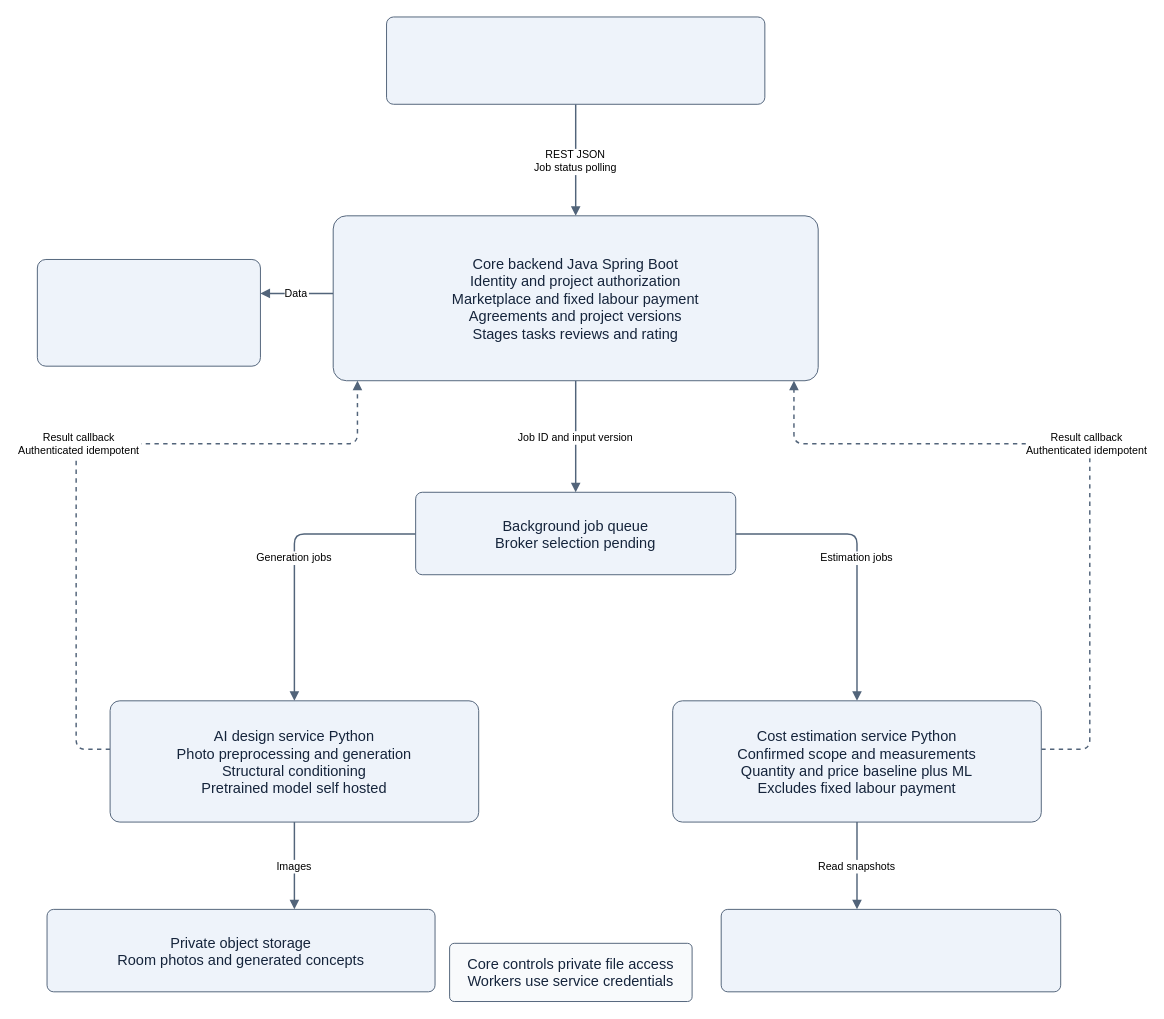
Some shapes in this 1164 by 1019 pixel diagram are drawn without their labels. Each missing label, with the centre of its shape:
"PostgreSQL Projects and versions Agreements reviews job state" belongs at (x=148, y=312).
"Versioned price data and model Material prices and evaluation metadata" belongs at (x=890, y=950).
"Web interface React and TypeScript" belongs at (x=575, y=60).
